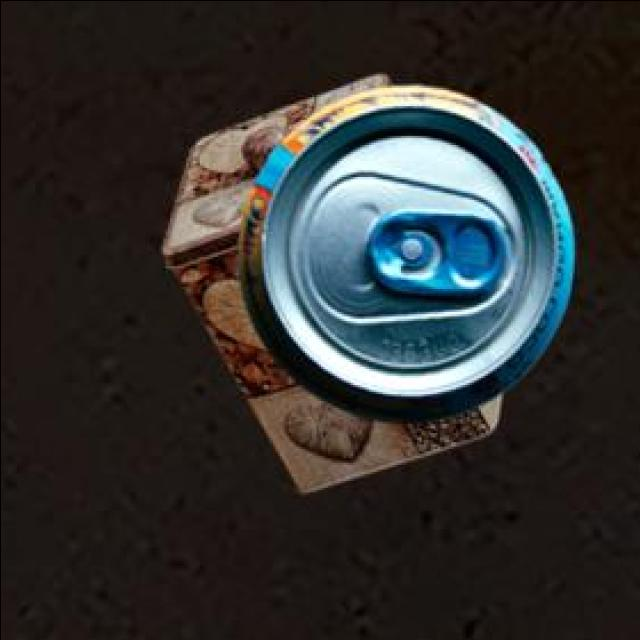logam: (166, 70, 503, 488), (241, 81, 577, 419)
